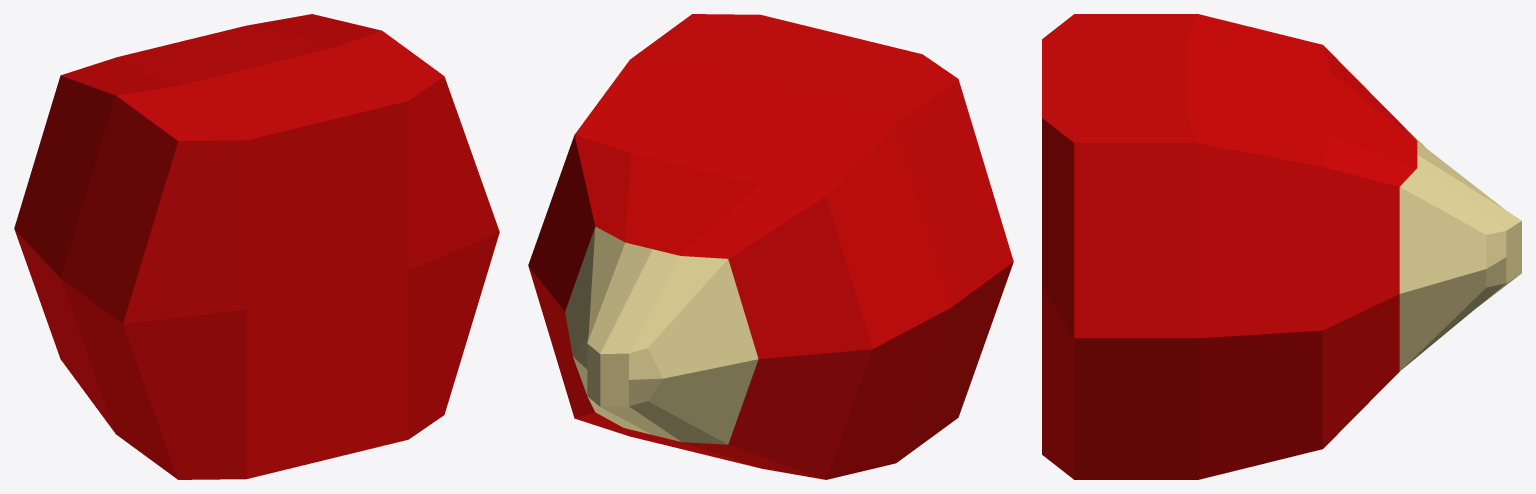
The model's file is Enemy_Serpent_Tail.fbx.
3 renders of one model, left to right at view 1: azimuth 30°, elevation 25°; view 2: azimuth 150°, elevation 25°; view 3: azimuth 270°, elevation 25°, orthographic.
Visible parts, largest first — view 1: Enemy_Serpent_Tail; view 2: Enemy_Serpent_Tail; view 3: Enemy_Serpent_Tail.
Part boxes in pixels (box(x1,y1,x2,y2)): Enemy_Serpent_Tail: box(14, 14, 499, 479); Enemy_Serpent_Tail: box(528, 14, 1013, 479); Enemy_Serpent_Tail: box(1042, 14, 1521, 479).
Bounding box in the file's own units: 233 × 200 × 258.
